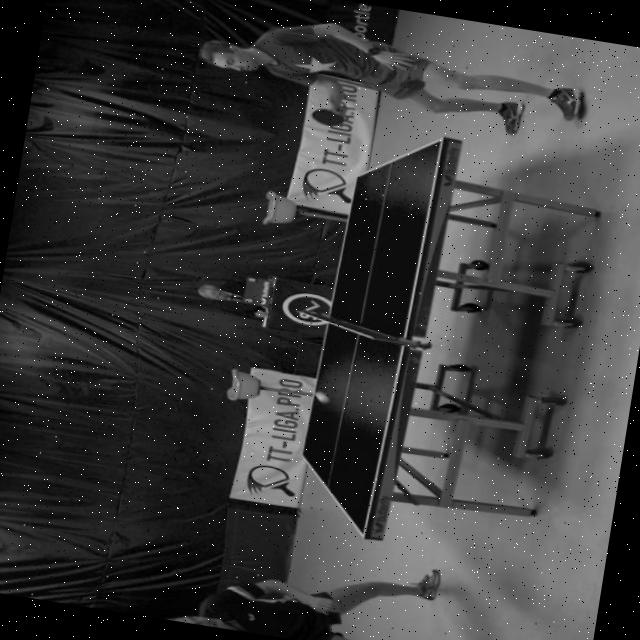ping-pong-ball: (310, 388, 332, 405)
